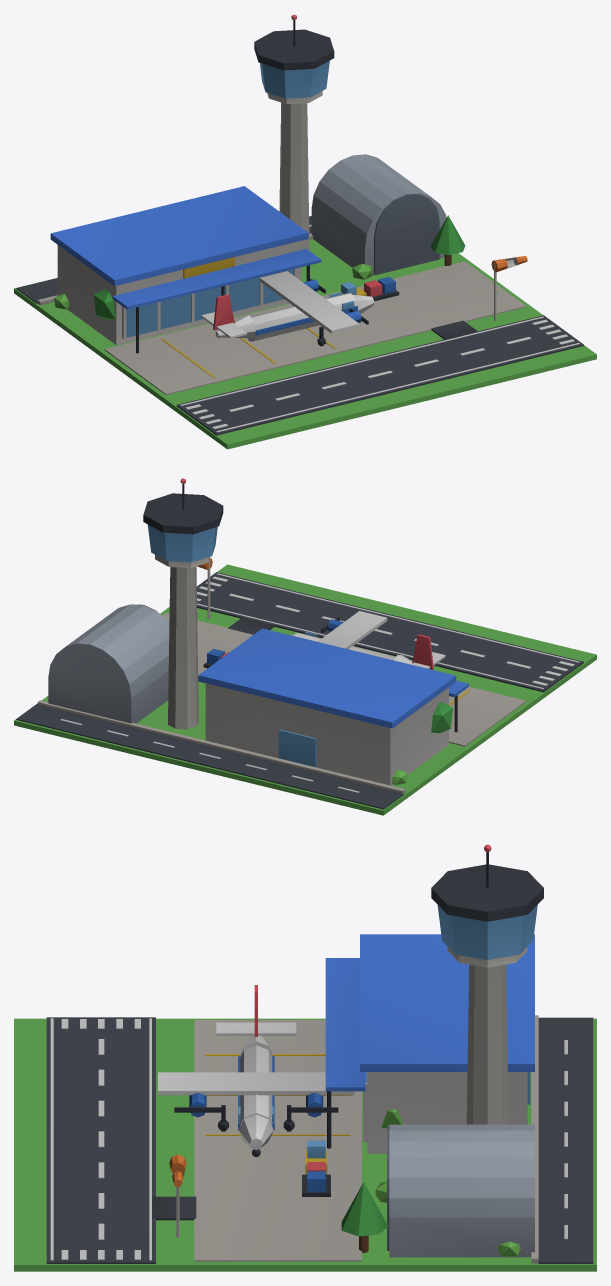
The model's file is bl_airport.glb.
3 renders of one model, top to bottom at view 1: azimuth 30°, elevation 25°; view 2: azimuth 150°, elevation 25°; view 3: azimuth 270°, elevation 25°, orthographic. The views are drawn at different scales.
Parts seen in each view (by area): view 1: airport; view 2: airport; view 3: airport.
Boxes of the visible parts, x1,y1,x2,y2 form: airport: (14, 14, 596, 449); airport: (14, 478, 596, 815); airport: (14, 844, 596, 1271).
Bounding box in the file's own units: 16 × 10.32 × 16.
